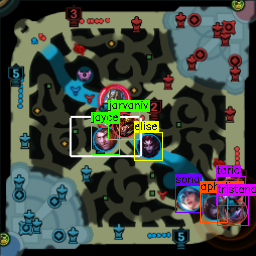aphelios: (203, 196, 224, 219)
elise: (137, 134, 160, 158)
galio: (101, 86, 126, 113)
jarvaniv: (113, 113, 136, 138)
jayce: (93, 126, 117, 150)
riven: (95, 102, 118, 127)
sona: (177, 186, 202, 210)
taric: (218, 178, 242, 202)
tristana: (223, 199, 247, 223)
